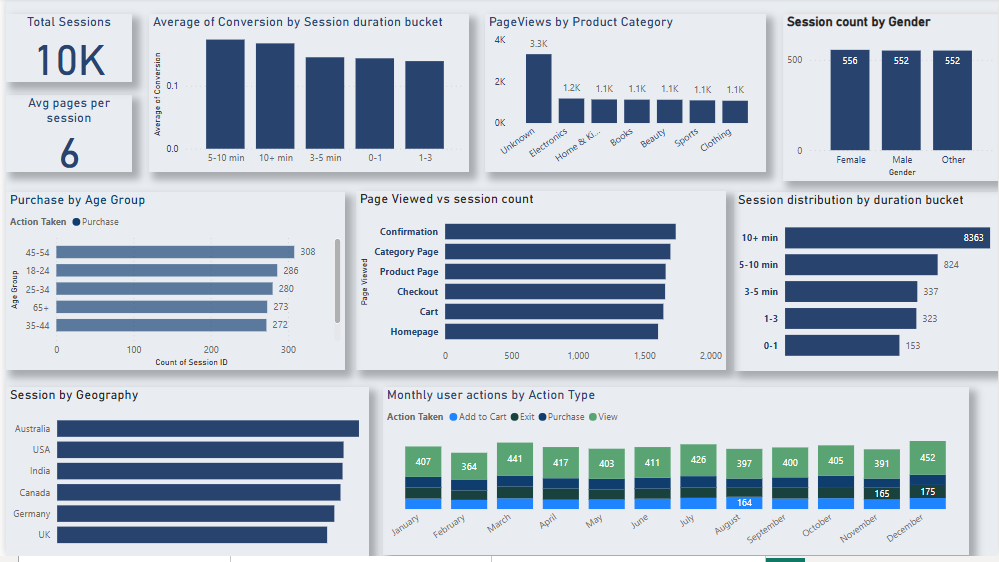

Layout of this report page (visuals, bound fields, positions):
{"tool":"powerbi","page":{"name":"User Behavior and engagement","canvas":[1280,720],"ordinal":0},"visuals":[{"type":"columnChart","title":"Session count by Gender","fields":{"Category":["ecommerce_clickstream (1).Gender"],"Y":["Count(ecommerce_clickstream (1).Session ID)"]},"box":[1002,20.6,278,214.7],"z":0},{"type":"barChart","title":"Session by Geography","fields":{"Category":["ecommerce_clickstream (1).Geography"],"Y":["Count(ecommerce_clickstream (1).Session ID)"]},"box":[0,501.9,468.4,218.1],"z":1000},{"type":"clusteredColumnChart","fields":{"Category":["ecommerce_clickstream (1).Session duration bucket"],"Y":["Avg(ecommerce_clickstream (1).Conversion )"]},"box":[184.5,20.6,412.9,203.9],"z":2000},{"type":"barChart","title":"Session distribution by duration bucket","fields":{"Category":["ecommerce_clickstream (1).Session duration bucket"],"Y":["CountNonNull(ecommerce_clickstream (1).Session ID)"]},"box":[939.4,250.3,340.6,231],"z":3000},{"type":"card","title":"Total Sessions","fields":{"Values":["CountNonNull(ecommerce_clickstream (1).Session ID)"]},"box":[0,20.6,162.6,87.7],"z":4000},{"type":"card","title":"Avg pages per session","fields":{"Values":["ecommerce_clickstream (1).Avg pages per session"]},"box":[0,125.2,162.6,99.4],"z":5000},{"type":"columnChart","fields":{"Category":["ecommerce_clickstream (1).Product Category"],"Y":["ecommerce_clickstream (1).PageViews"]},"box":[618,20.6,362,203.7],"z":6000},{"type":"barChart","title":"Page Viewed vs session count","fields":{"Category":["ecommerce_clickstream (1).Page Viewed"],"Y":["CountNonNull(ecommerce_clickstream (1).Session ID)"]},"box":[451.4,249.1,477.6,231.2],"z":7000},{"type":"columnChart","title":"Monthly user actions by Action Type","fields":{"Category":["ecommerce_clickstream (1).Start of Month.Variation.Date Hierarchy.Month"],"Series":["ecommerce_clickstream (1).Action Taken"],"Y":["Count(ecommerce_clickstream (1).Session ID)"]},"box":[485.8,502.4,755.6,217.5],"z":8000},{"type":"barChart","title":"Purchase by Age Group","fields":{"Category":["ecommerce_clickstream (1).Age Group"],"Y":["CountNonNull(ecommerce_clickstream (1).Session ID)"],"Series":["ecommerce_clickstream (1).Action Taken"]},"box":[0,250.3,436.7,230.1],"z":9000}]}

Visuals, with their boxes in screenshot pixels (x1, y1, x2, y2), scaled from the page's 1280x720 canvas onto the 999x562 screenshot:
"Session count by Gender" columnChart: Rect(782, 16, 998, 184)
"Session by Geography" barChart: Rect(0, 392, 366, 561)
clusteredColumnChart - ecommerce_clickstream (1).Session duration bucket x Avg(ecommerce_clickstream (1).Conversion ): Rect(144, 16, 466, 175)
"Session distribution by duration bucket" barChart: Rect(733, 195, 998, 376)
"Total Sessions" card: Rect(0, 16, 127, 85)
"Avg pages per session" card: Rect(0, 98, 127, 175)
columnChart - ecommerce_clickstream (1).Product Category x ecommerce_clickstream (1).PageViews: Rect(482, 16, 765, 175)
"Page Viewed vs session count" barChart: Rect(352, 194, 725, 375)
"Monthly user actions by Action Type" columnChart: Rect(379, 392, 969, 561)
"Purchase by Age Group" barChart: Rect(0, 195, 341, 375)
